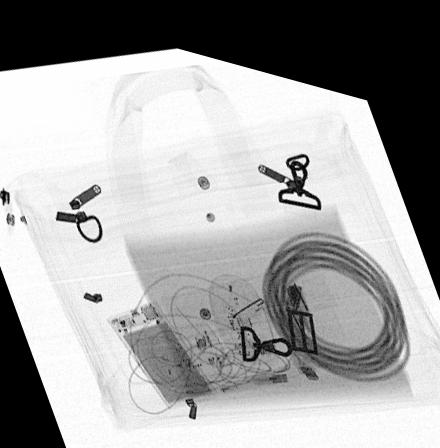Powerbank: (106, 291, 217, 400)
